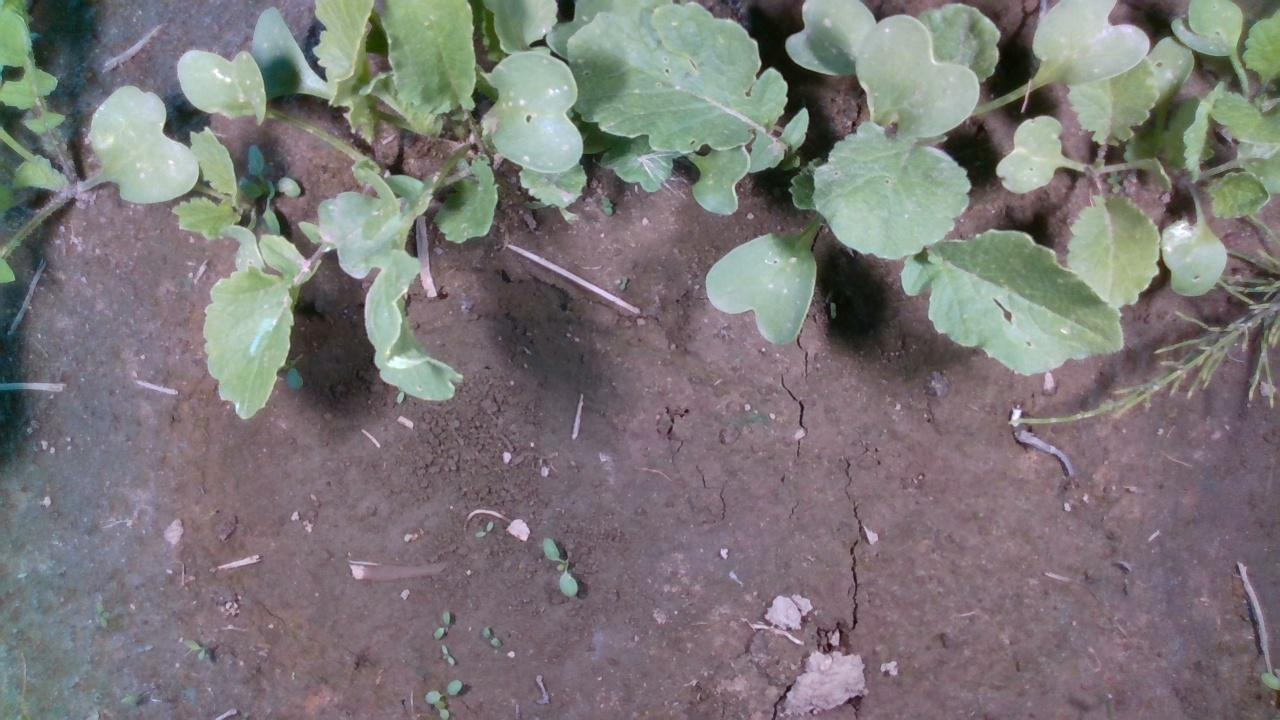weed: (540, 535, 577, 597), (179, 638, 209, 659), (91, 598, 108, 629), (433, 608, 451, 637), (480, 625, 501, 648), (439, 643, 455, 665), (473, 520, 492, 537), (600, 193, 613, 216)
